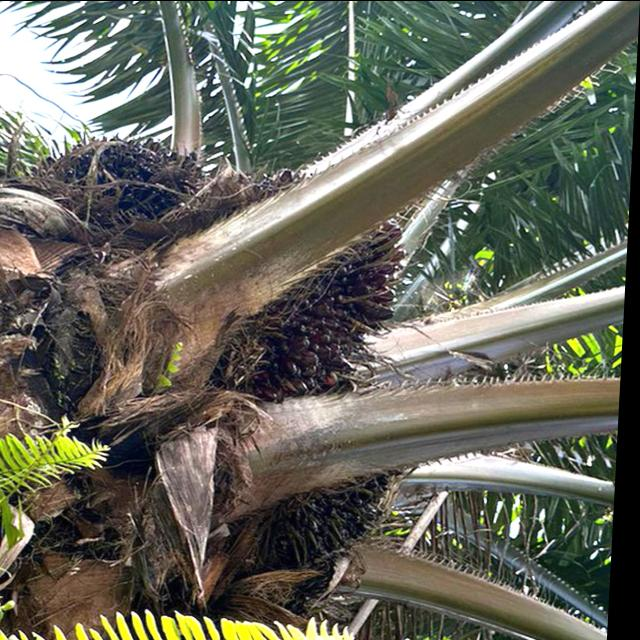ripe: (226, 202, 427, 406), (254, 458, 427, 600), (44, 137, 231, 231)
